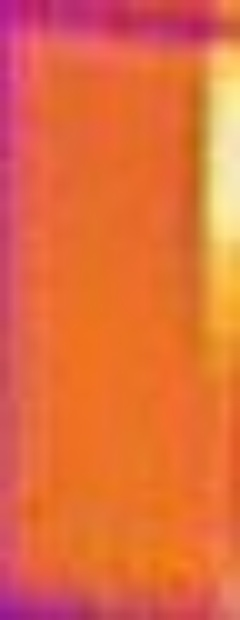Diode: (191, 39, 240, 377)
